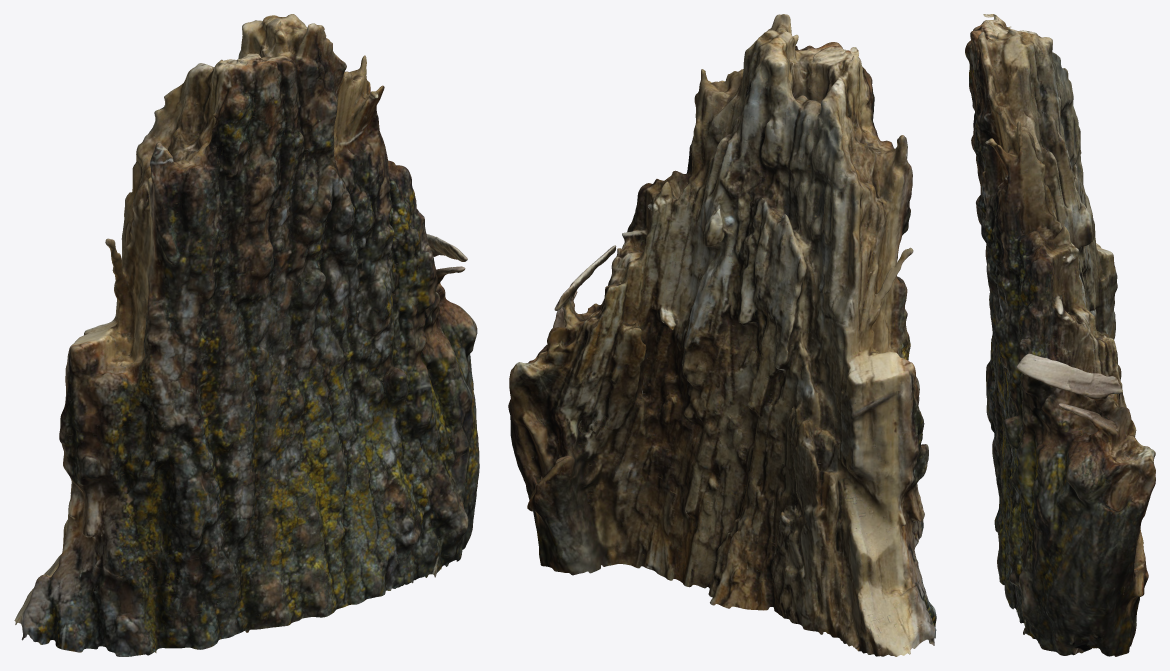
File: root-decoration.glb
3 views of the same model, side by side, from view 1: azimuth 30°, elevation 25°; view 2: azimuth 150°, elevation 25°; view 3: azimuth 270°, elevation 25° (orthographic). The views are drawn at different scales.
Parts seen in each view (by area): view 1: bark; view 2: bark; view 3: bark.
Boxes of the visible parts, <box> form: bark: <box>14,14,479,656</box>; bark: <box>508,14,936,656</box>; bark: <box>965,14,1155,656</box>.
Bounding box in the file's own units: 0.7913 × 1 × 0.3225.
Materials: 1 (1 with a texture image).
